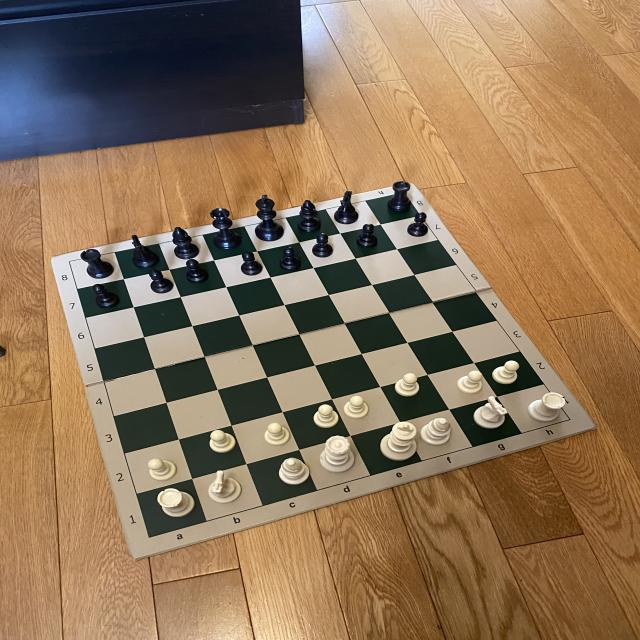Chessboard-Corners: (141, 530, 158, 542), (562, 414, 576, 424), (65, 259, 74, 267)
